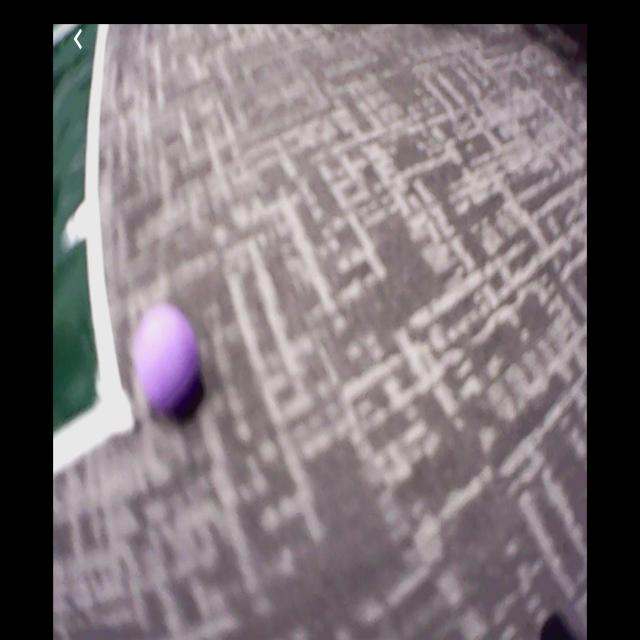ball: (136, 306, 199, 418)
